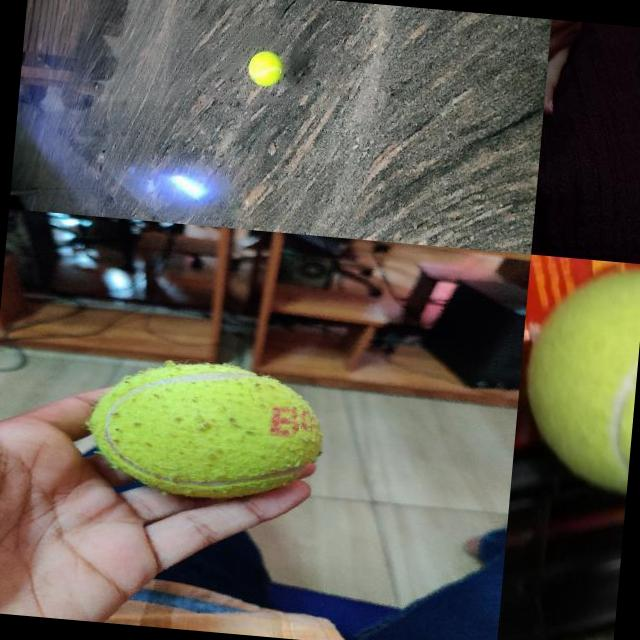Tennis Ball: (84, 353, 328, 508), (516, 257, 640, 495), (246, 50, 284, 88)
